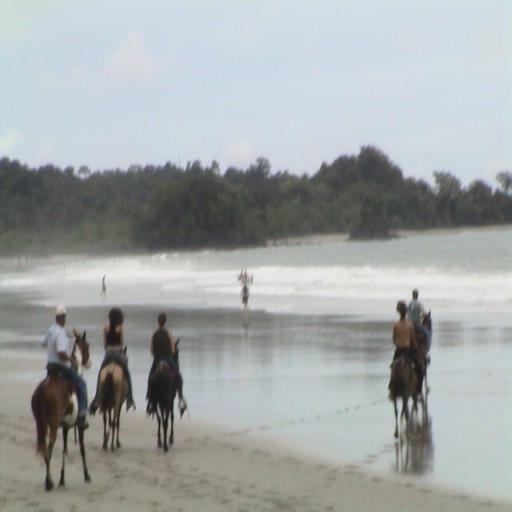horse: (28, 326, 91, 493), (388, 332, 428, 440), (147, 338, 182, 451), (97, 344, 132, 452)
